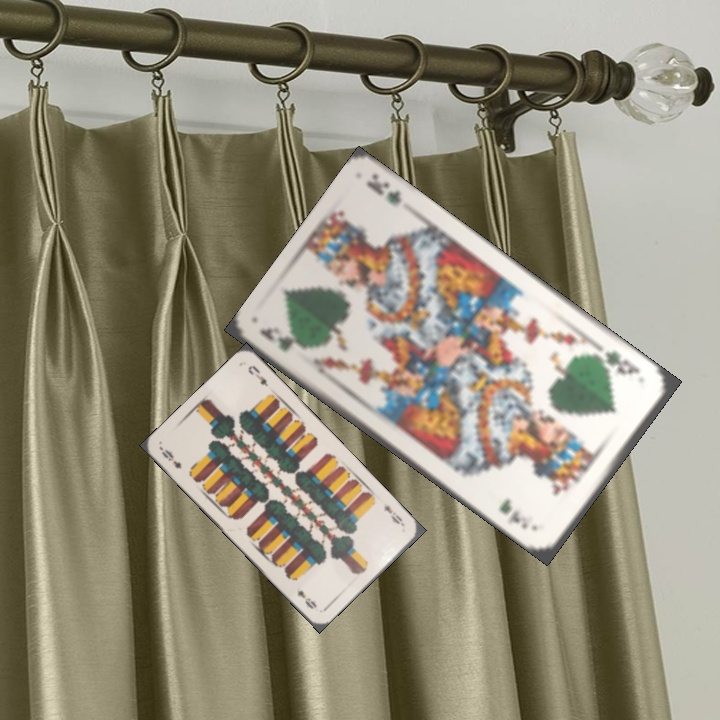E9: (379, 499, 407, 529), (157, 444, 184, 471)
GK: (255, 323, 308, 354), (594, 347, 644, 378)
